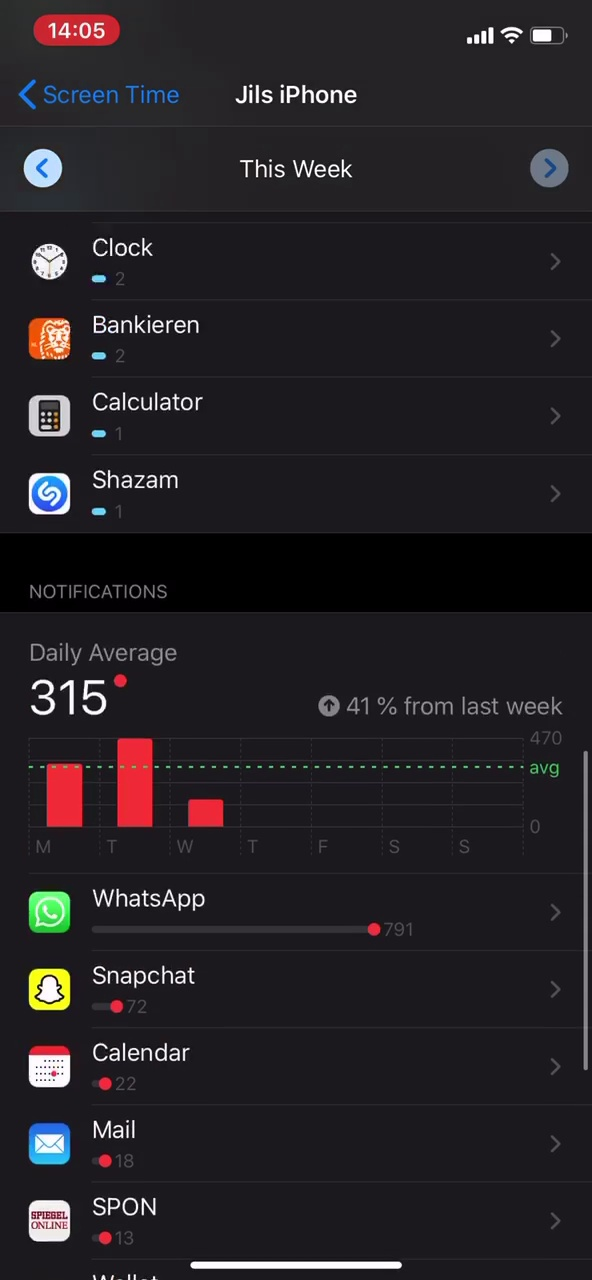not_app: (20, 886, 426, 949), (18, 961, 243, 1021), (15, 1038, 226, 1099), (17, 1114, 181, 1175), (22, 1189, 167, 1249)
not_over: (15, 572, 175, 732)
pick_app: (29, 225, 257, 292), (14, 464, 226, 532), (31, 303, 242, 371), (15, 391, 240, 447)
week: (223, 148, 362, 191)
